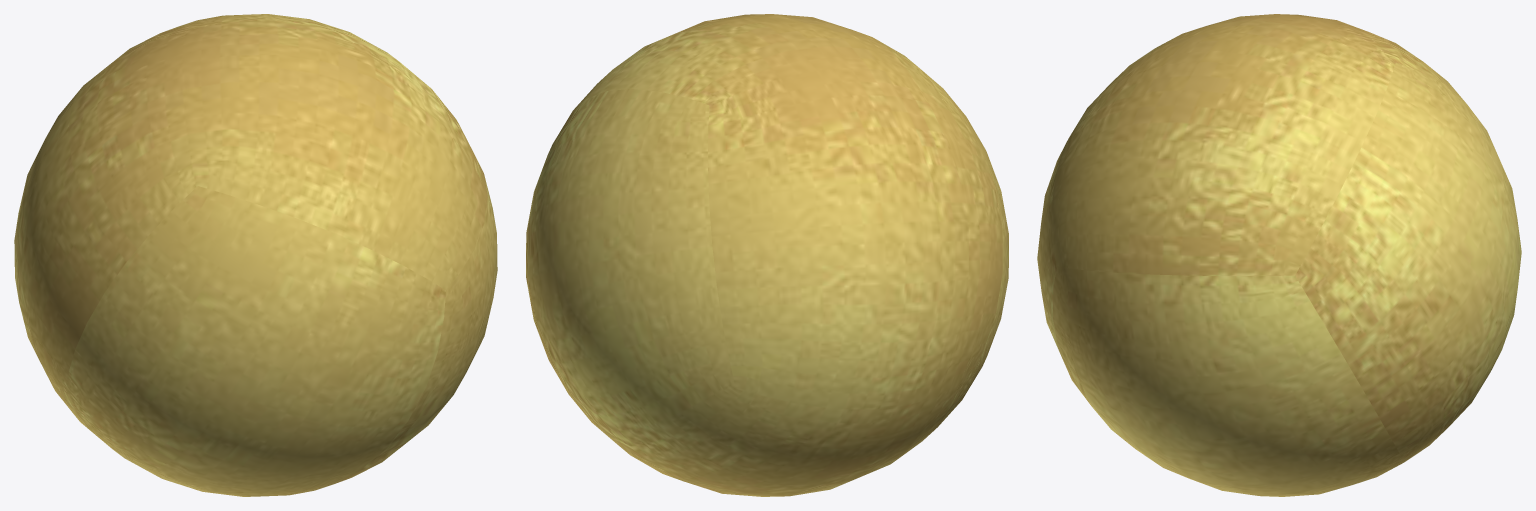
The model's file is sun.obj.
The picture shows the model from 3 angles, left to right: view 1: azimuth 30°, elevation 25°; view 2: azimuth 150°, elevation 25°; view 3: azimuth 270°, elevation 25°; orthographic projection.
Parts seen in each view (by area): view 1: Moon_Cube.001; view 2: Moon_Cube.001; view 3: Moon_Cube.001.
Part boxes in pixels (bbox=[...]): Moon_Cube.001: bbox=[14, 14, 497, 496]; Moon_Cube.001: bbox=[526, 14, 1008, 496]; Moon_Cube.001: bbox=[1037, 14, 1521, 496].
Bounding box in the file's own units: 14.67 × 14.65 × 14.7.
